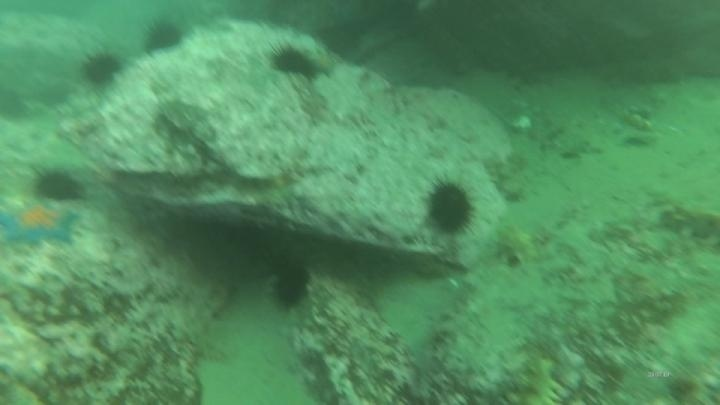echinus: (423, 177, 478, 238), (268, 259, 313, 311), (32, 166, 86, 205), (267, 42, 320, 81), (79, 48, 125, 90), (141, 17, 187, 57)
holothurian: (643, 185, 720, 246), (513, 351, 565, 405)
starfish: (1, 199, 82, 250), (306, 47, 340, 81)
